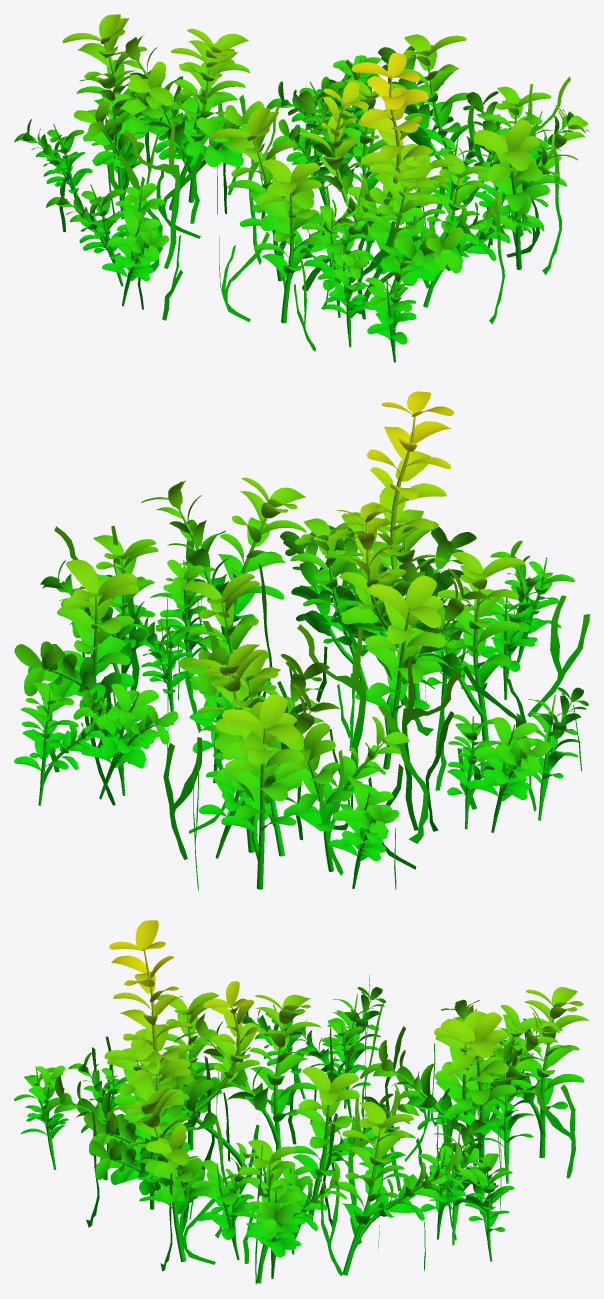
Rendered from Lingonberry_LOD0_Var12.fbx.
3 views of the same model, one above another, from view 1: azimuth 30°, elevation 25°; view 2: azimuth 150°, elevation 25°; view 3: azimuth 270°, elevation 25° (orthographic). The views are drawn at different scales.
Visible parts, largest first — view 1: _y358_Var12_LOD0; view 2: _y358_Var12_LOD0; view 3: _y358_Var12_LOD0.
Boxes of the visible parts, x1,y1,x2,y2 form: _y358_Var12_LOD0: [14, 14, 589, 362]; _y358_Var12_LOD0: [14, 391, 589, 890]; _y358_Var12_LOD0: [14, 920, 588, 1284].
Size of the model in its own units: 48.76 by 25.94 by 50.82.
